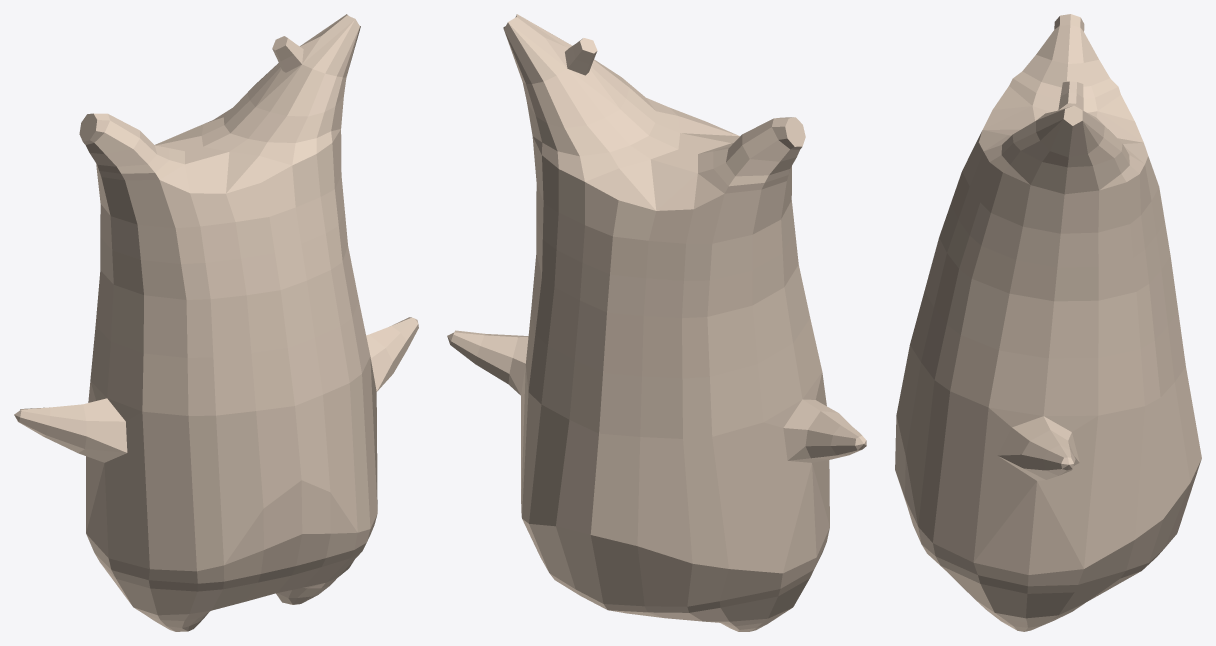
Rendered from frame_0053.obj.
3 renders of one model, left to right at view 1: azimuth 30°, elevation 25°; view 2: azimuth 150°, elevation 25°; view 3: azimuth 270°, elevation 25°, orthographic. The views are drawn at different scales.
Parts seen in each view (by area): view 1: korok; view 2: korok; view 3: korok.
Boxes of the visible parts, left/top/right/bottom form: korok: left=14, top=14, right=418, bottom=631; korok: left=447, top=14, right=866, bottom=631; korok: left=895, top=14, right=1201, bottom=631.
Size of the model in its own units: 1.62 by 2.15 by 1.06.
